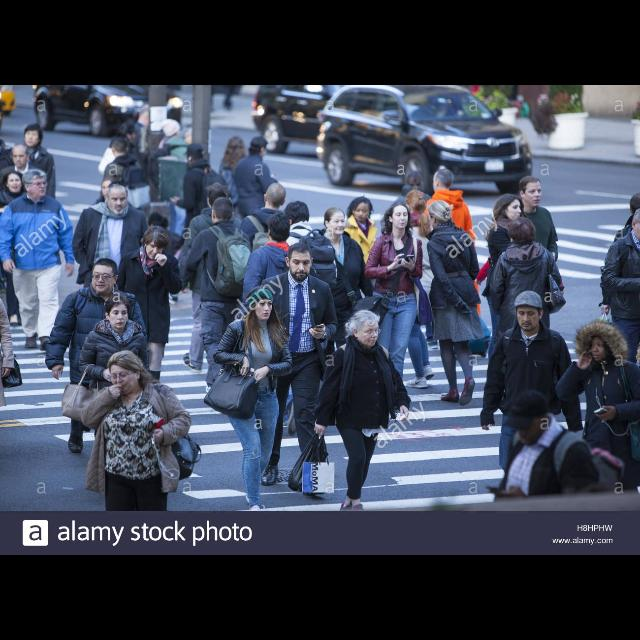head: (1, 266, 26, 469), (509, 392, 549, 446), (108, 354, 142, 396), (513, 294, 545, 332), (285, 243, 315, 283), (352, 310, 381, 348), (590, 325, 618, 363), (92, 258, 120, 294), (104, 296, 130, 330), (518, 176, 542, 208), (105, 183, 129, 215), (252, 288, 274, 322), (22, 170, 48, 198), (428, 201, 452, 231), (499, 194, 523, 223), (510, 218, 534, 246), (324, 208, 348, 236), (211, 198, 235, 225), (145, 229, 165, 261), (284, 201, 310, 225), (264, 182, 286, 208), (388, 202, 408, 230), (432, 168, 453, 194), (404, 190, 428, 212), (268, 218, 290, 242), (24, 124, 44, 150), (206, 185, 228, 208), (352, 198, 372, 222), (102, 176, 120, 202), (119, 122, 139, 144), (12, 144, 30, 168), (6, 172, 24, 194), (250, 138, 268, 158), (111, 137, 127, 159), (164, 121, 182, 139), (404, 173, 422, 189), (228, 137, 244, 155), (138, 109, 154, 127), (180, 128, 198, 144), (188, 148, 202, 166), (0, 125, 10, 146)
person: (477, 289, 589, 519), (250, 242, 340, 498), (201, 286, 297, 526), (312, 308, 413, 528), (44, 256, 150, 458), (59, 294, 152, 498), (240, 209, 318, 439), (176, 198, 258, 396), (482, 216, 568, 402), (70, 180, 150, 376), (0, 168, 78, 354), (424, 198, 490, 408), (174, 180, 243, 378), (272, 201, 338, 405), (362, 201, 426, 405), (112, 222, 184, 402), (312, 206, 378, 384), (421, 166, 484, 340), (240, 180, 298, 358), (391, 189, 441, 391), (504, 176, 562, 340), (168, 140, 230, 288), (1, 266, 42, 469), (482, 192, 526, 368), (232, 134, 282, 270), (100, 133, 146, 280), (148, 126, 205, 244), (88, 173, 134, 299), (0, 169, 36, 329), (2, 142, 44, 278), (15, 122, 59, 248), (98, 121, 142, 246), (338, 197, 382, 321), (215, 133, 251, 263), (393, 171, 427, 293), (152, 118, 184, 224), (127, 106, 157, 206), (0, 125, 20, 241)
